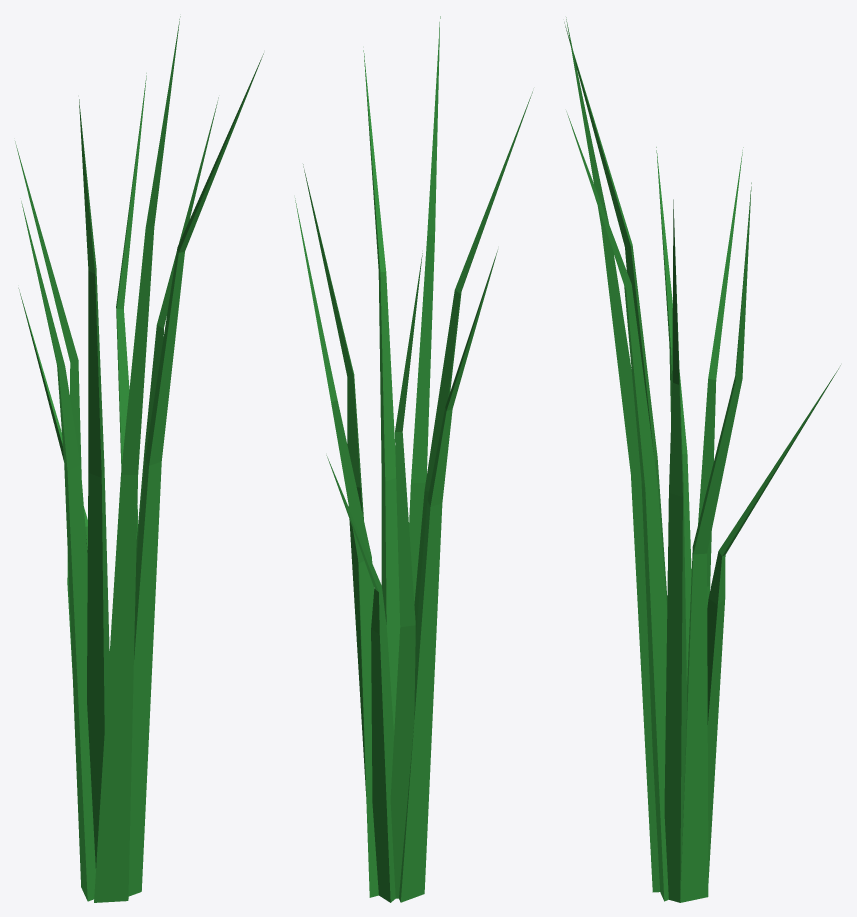
Rendered from Grass_7_Green.fbx.
3 renders of one model, left to right at view 1: azimuth 30°, elevation 25°; view 2: azimuth 150°, elevation 25°; view 3: azimuth 270°, elevation 25°, orthographic. The views are drawn at different scales.
Visible parts, largest first — view 1: Grass_7_Green; view 2: Grass_7_Green; view 3: Grass_7_Green.
Boxes of the visible parts, box(x1,y1,x2,y2) form: Grass_7_Green: box(15, 16, 263, 902); Grass_7_Green: box(295, 16, 532, 902); Grass_7_Green: box(564, 17, 840, 902).
Size of the model in its own units: 23.91 by 101 by 28.97.
